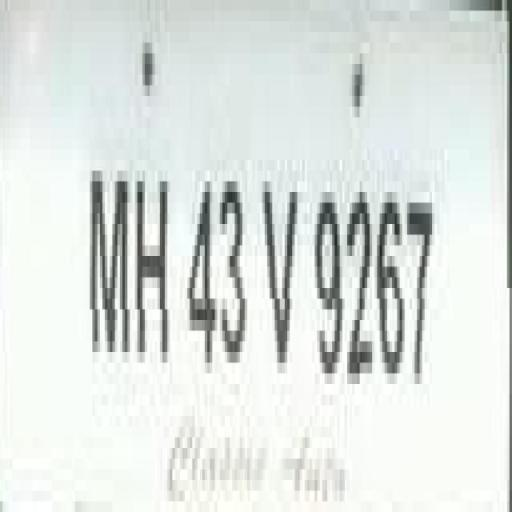number plate: (16, 10, 511, 512)
